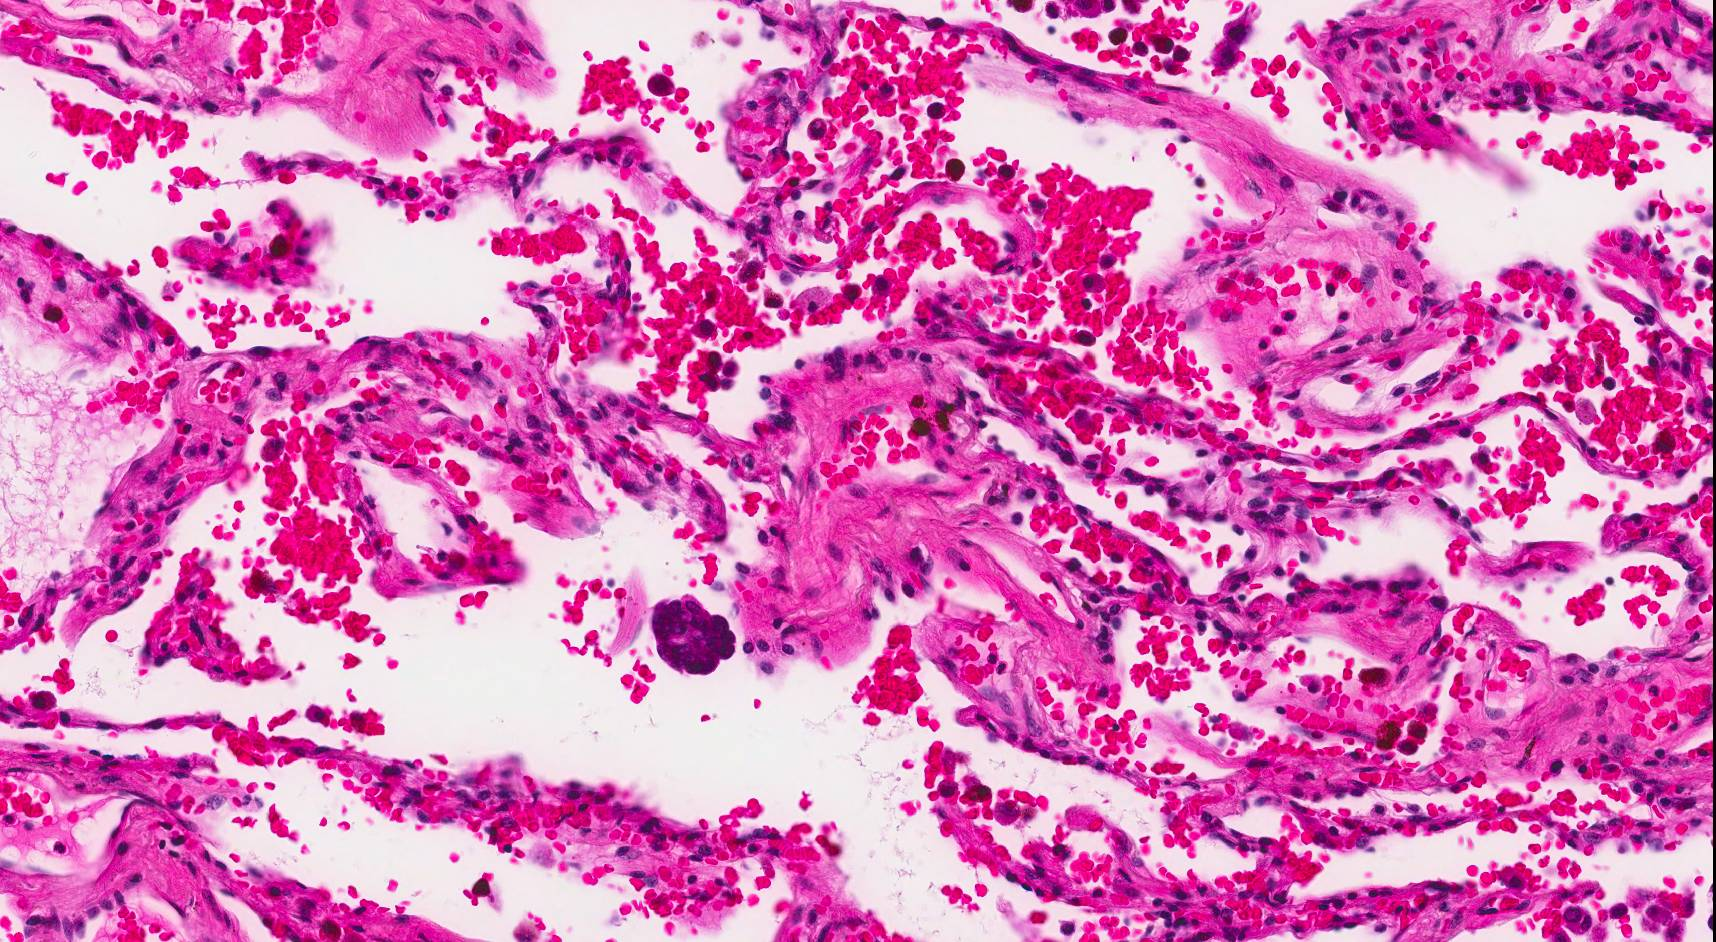stas: (651, 594, 735, 678)
